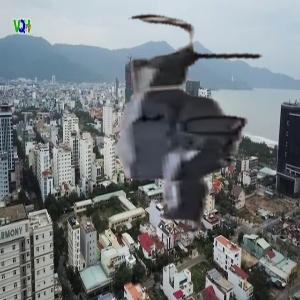drone: (44, 8, 290, 254)
